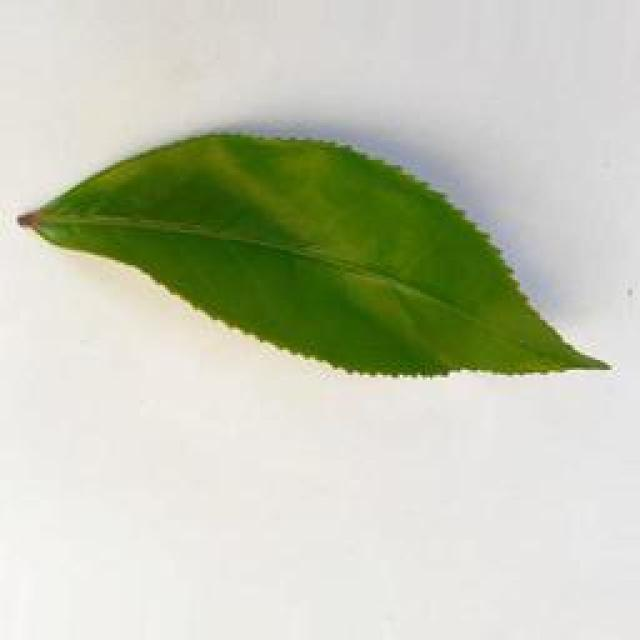Healthy: (18, 130, 623, 393)
